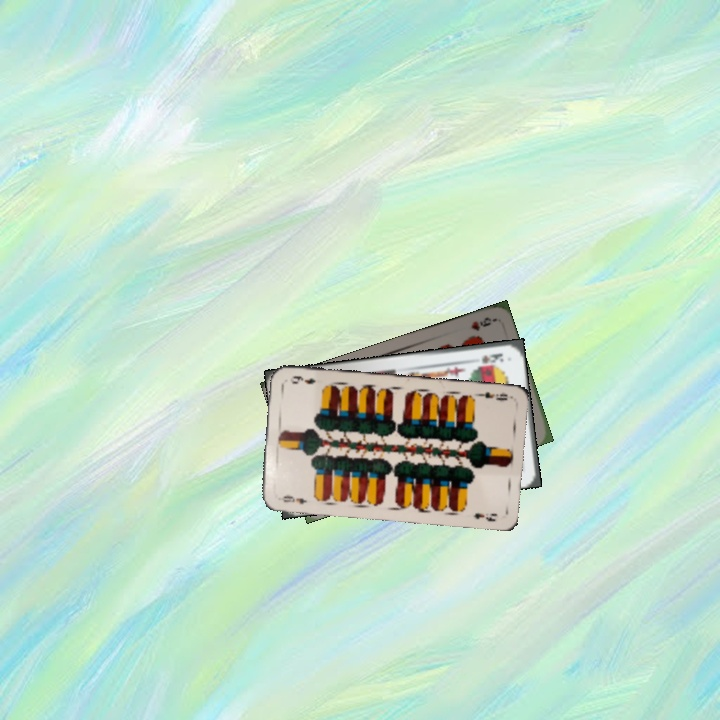E9: (472, 388, 513, 403), (274, 491, 309, 507)
H9: (467, 313, 496, 334)
SK: (478, 349, 506, 366)
